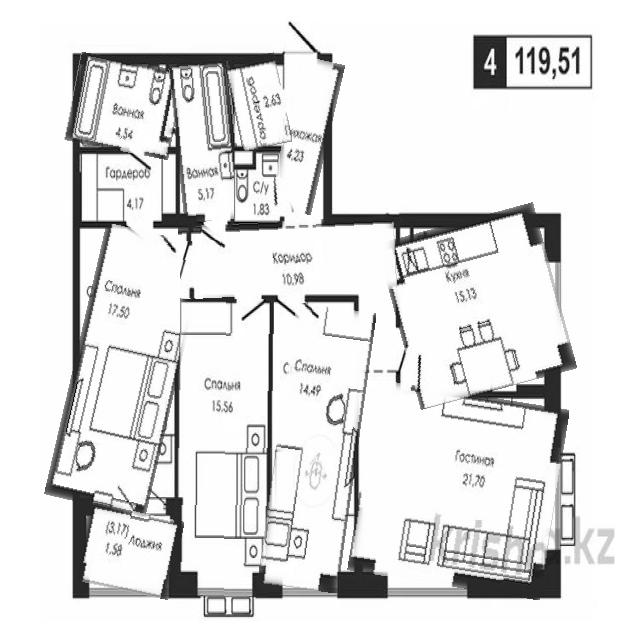balcony: (76, 506, 181, 596)
bathroom: (68, 56, 182, 156), (172, 57, 240, 222), (234, 147, 284, 226)
hallway: (179, 218, 397, 297), (277, 58, 337, 214)
kitchen: (387, 211, 567, 401)
living_room: (354, 386, 563, 593), (59, 226, 193, 513), (176, 298, 273, 597), (266, 304, 366, 591)
other: (229, 54, 288, 149)
